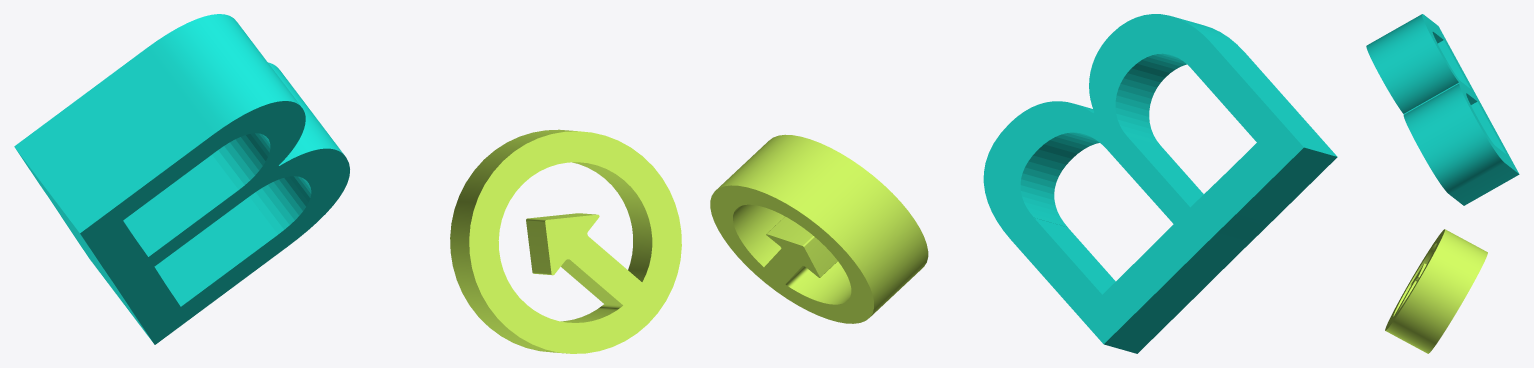
The model's file is about.gltf.
3 renders of one model, left to right at view 1: azimuth 30°, elevation 25°; view 2: azimuth 150°, elevation 25°; view 3: azimuth 270°, elevation 25°, orthographic. The views are drawn at different scales.
Parts seen in each view (by area): view 1: Shape 0 (×2); view 2: Shape 0 (×2); view 3: Shape 0 (×2).
Boxes of the visible parts, x1,y1,x2,y2 form: Shape 0 (×2): (14,14,681,353); Shape 0 (×2): (710,14,1337,353); Shape 0 (×2): (1366,14,1519,353).
Size of the model in its own units: 5.92 by 3.71 by 2.24.
